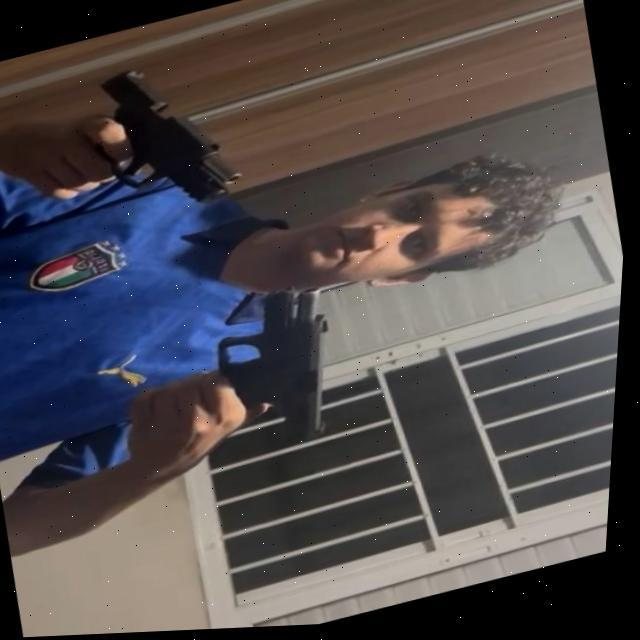gun: (91, 42, 259, 228), (200, 274, 366, 462)
